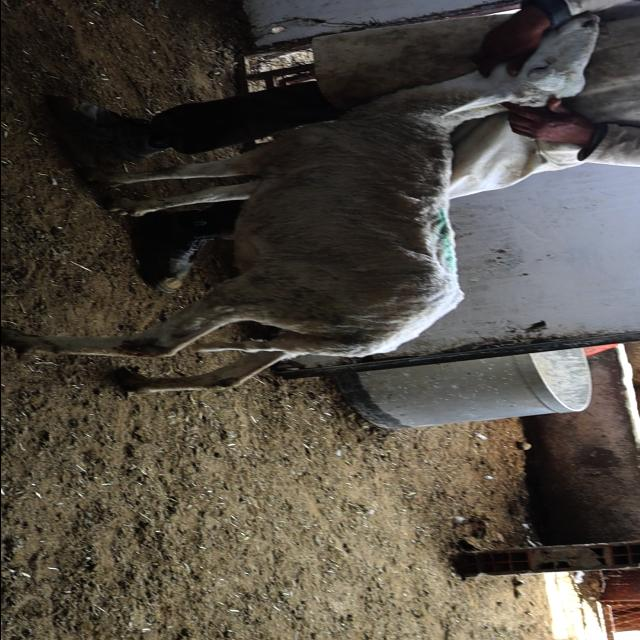Score_1: (1, 14, 598, 392)
